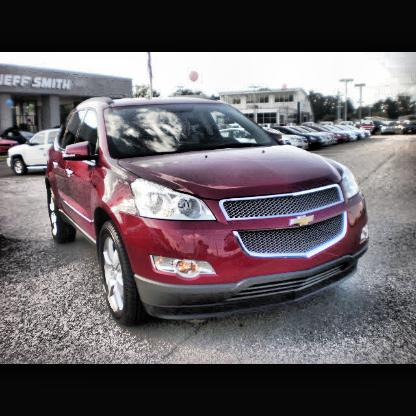Chevrolet Traverse SUV 2012: (48, 53, 371, 325)
